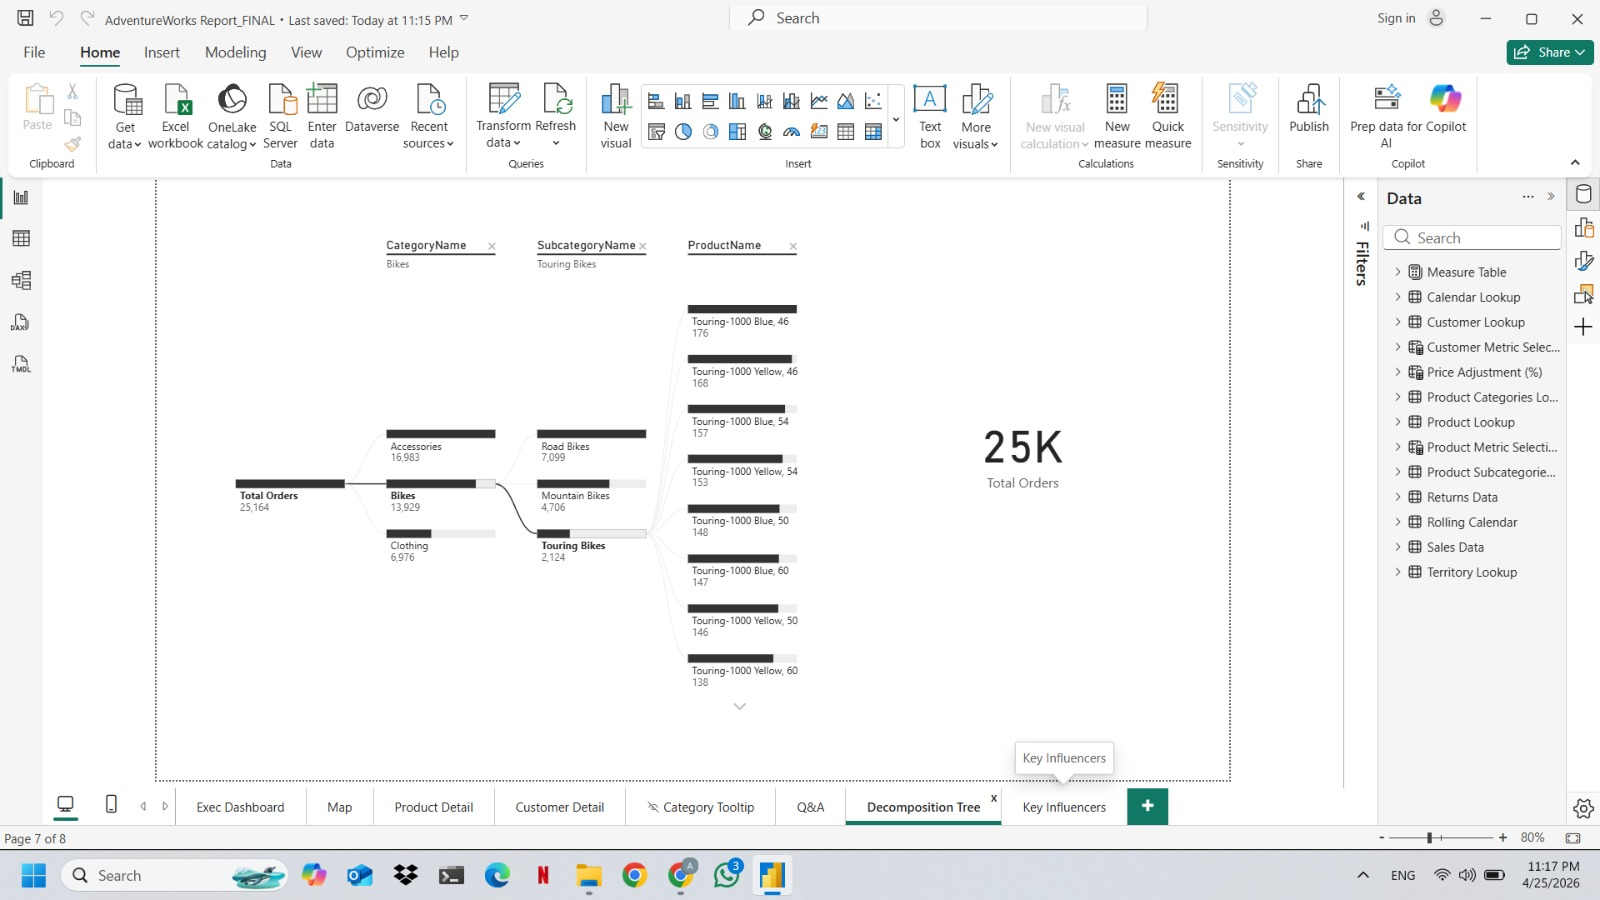

Layout of this report page (visuals, bound fields, positions):
{"tool":"powerbi","page":{"name":"Decomposition Tree","canvas":[1280,720],"ordinal":6},"visuals":[{"type":"decompositionTreeVisual","fields":{"ExplainBy":["Product Categories Lookup.CategoryName","Product Subcategories Lookup.SubcategoryName","Product Lookup.ProductName"],"Analyze":["Measure Table.Total Orders"]},"box":[64.4,55.4,773.1,597.9],"z":0},{"type":"card","fields":{"Values":["Measure Table.Total Orders"]},"box":[894.1,204.6,280.3,243],"z":1000}]}

Visuals, with their boxes on the page's 1280x720 design canvas (x1, y1, x2, y2). These are canvas units, not pixel positions in the 1600x900 screenshot, which may show the page scaled, cropped or inside an application window:
decompositionTreeVisual - Product Categories Lookup.CategoryName x Product Subcategories Lookup.SubcategoryName: x1=64 y1=55 x2=838 y2=653
card - Measure Table.Total Orders: x1=894 y1=205 x2=1174 y2=448
